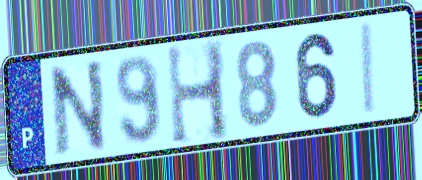6: (293, 30, 341, 123)
8: (234, 37, 282, 130)
9: (113, 52, 164, 147)
H: (164, 38, 233, 149)
I: (360, 20, 378, 119)
N: (46, 56, 110, 160)
